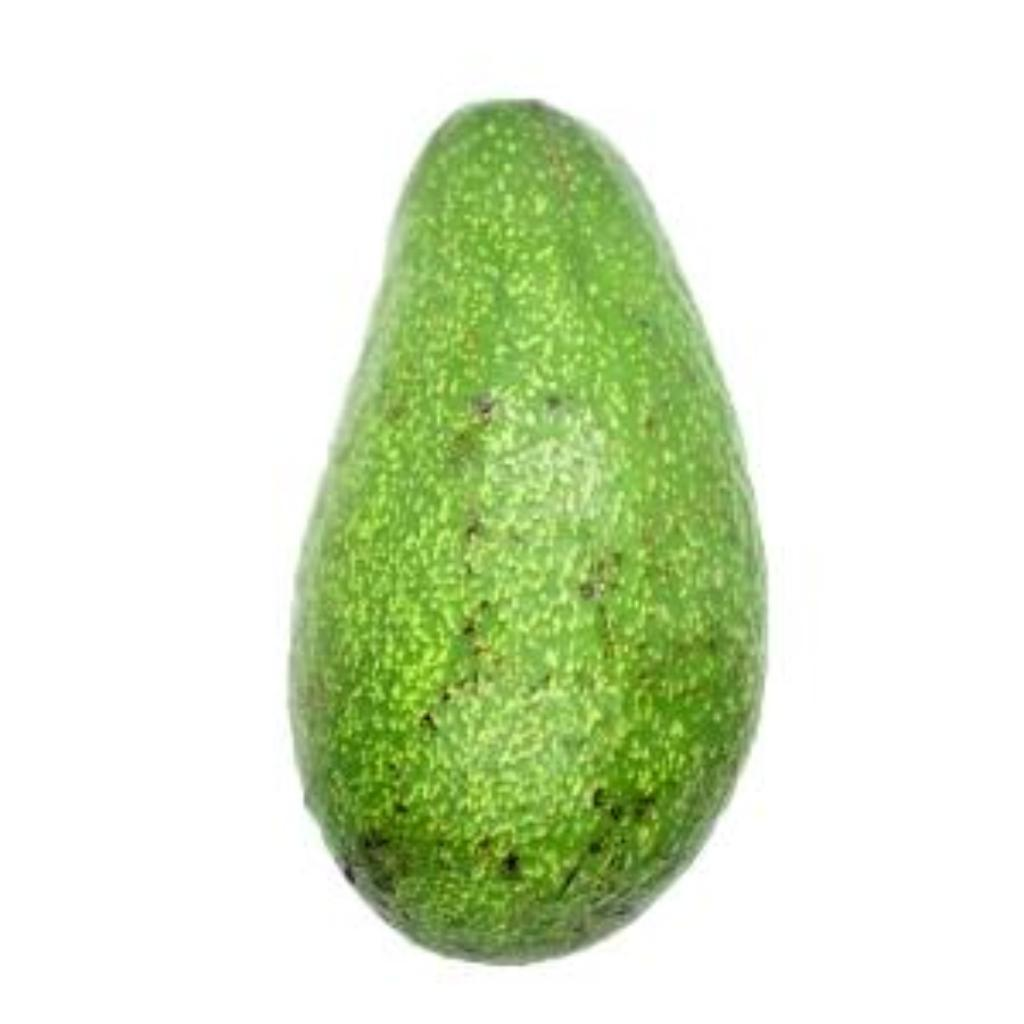cercospora_spot: (280, 89, 778, 963)
